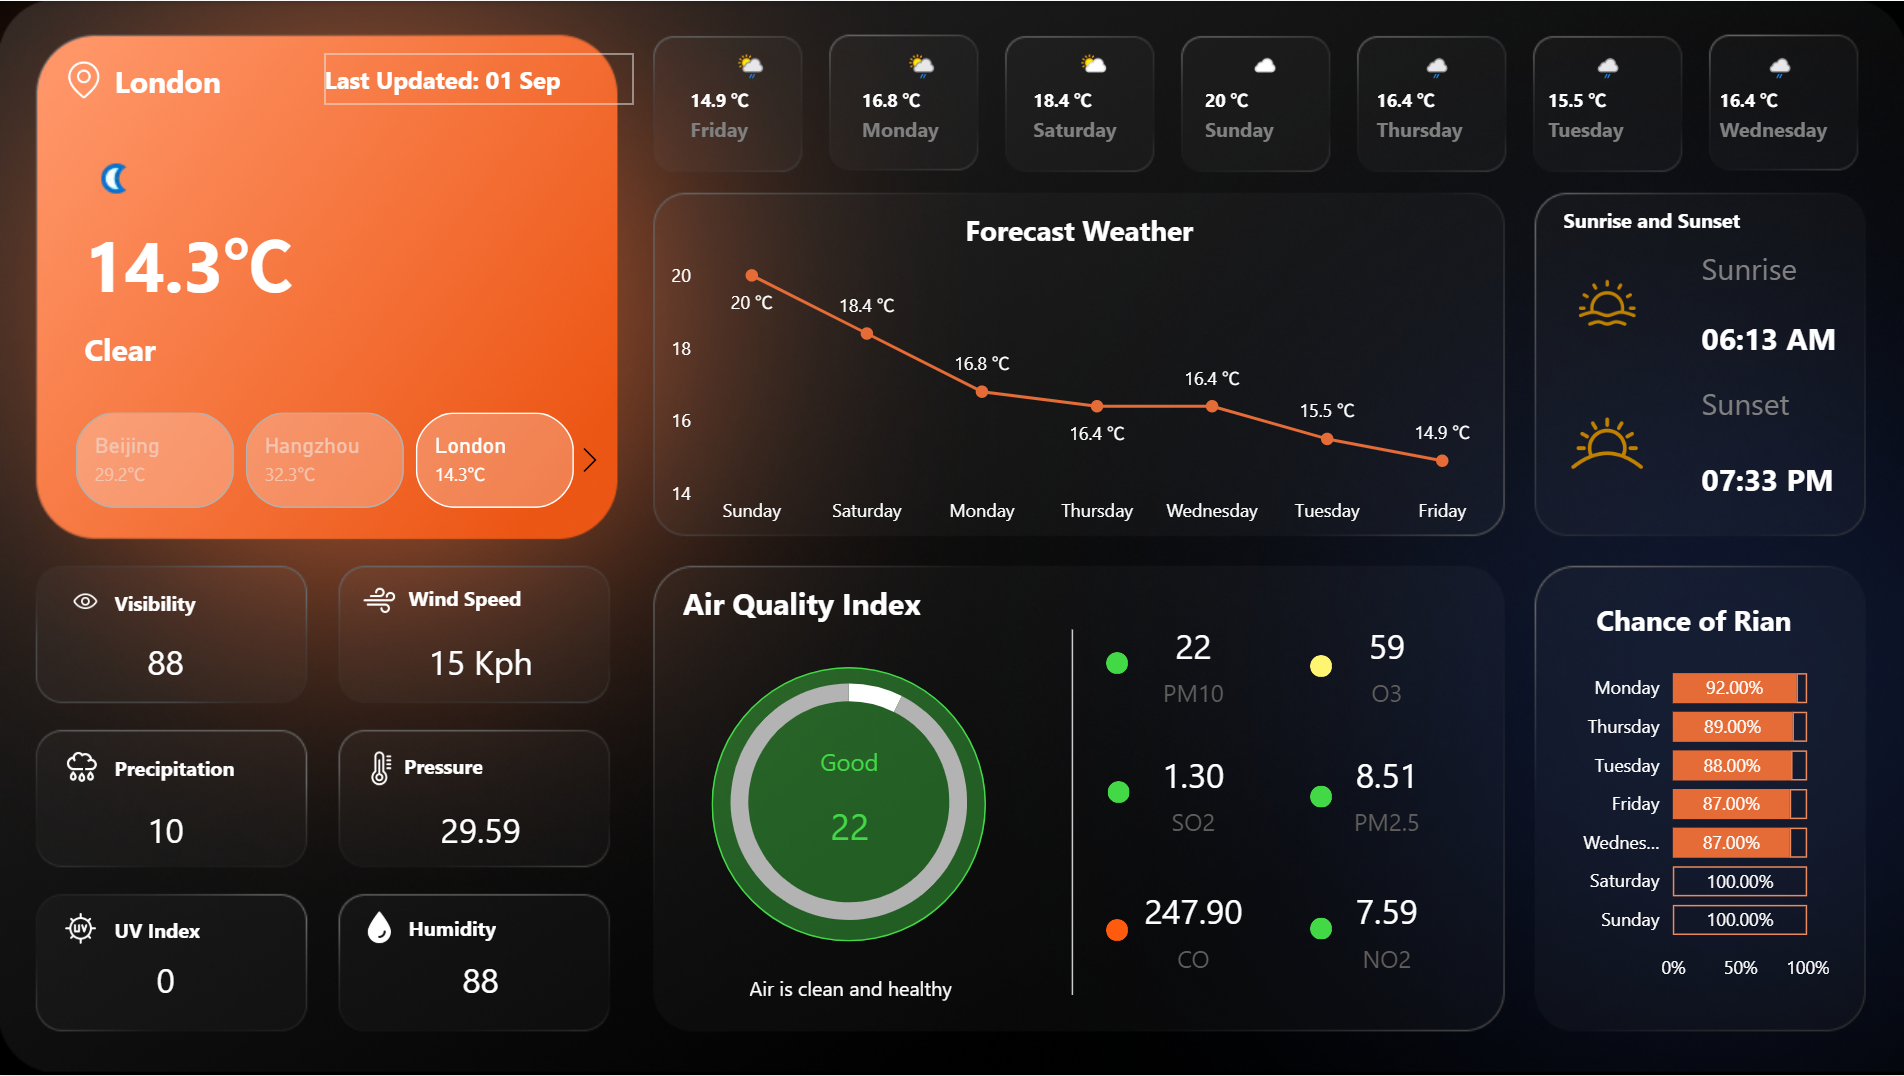

This screenshot's page, from the dashboard's own definition file:
{"tool":"powerbi","page":{"name":"第 1 页","canvas":[1280,720],"ordinal":0},"visuals":[{"type":"shape","box":[683.3,421,73.6,245],"z":0},{"type":"shape","box":[477.4,446.4,184.1,184.1],"z":1000},{"type":"advancedSlicerVisual","fields":{"Values":["Locations.location.name"]},"box":[26.5,270.3,385.4,74.8],"z":2000},{"type":"shape","box":[57.6,141,197.5,61.1],"z":3000},{"type":"shape","box":[57.6,216.3,367.9,34.1],"z":4000},{"type":"shape","box":[77.6,36.4,122.2,34.1],"z":5000},{"type":"image","box":[37.6,35.3,40,35.3],"z":6000},{"type":"shape","box":[218.6,35.3,206.9,34.1],"z":7000},{"type":"cardVisual","fields":{"Data":["Current.current.condition.icon"]},"box":[19.6,69.3,108.6,100.3],"z":8000},{"type":"image","box":[43.4,375.3,28.9,54.8],"z":9000},{"type":"shape","box":[77.5,386.7,78.6,34.1],"z":10000},{"type":"shape","box":[77.5,497.3,92,34.1],"z":11000},{"type":"image","box":[11.4,605.9,87.9,32.1],"z":12000},{"type":"image","box":[238.8,383.6,33.1,37.2],"z":13000},{"type":"image","box":[238.8,498.4,36.2,33.1],"z":14000},{"type":"image","box":[238.8,604.8,33.1,33.1],"z":15000},{"type":"image","box":[37.2,496.3,37.2,35.2],"z":16000},{"type":"shape","box":[77.5,605.9,92,34.1],"z":17000},{"type":"shape","box":[275,383.6,92,34.1],"z":18000},{"type":"shape","box":[271.9,496.3,92,34.1],"z":19000},{"type":"shape","box":[275,604.8,92,34.1],"z":20000},{"type":"card","fields":{"Values":["Current.current.humidity"]},"box":[277.1,630.7,90,53.8],"z":21000},{"type":"card","fields":{"Values":["Current.current.pressure_in"]},"box":[277.1,530.4,90,53.8],"z":22000},{"type":"card","fields":{"Values":["_Measures.Wind_Speed"]},"box":[277.1,417.7,90,53.8],"z":23000},{"type":"card","fields":{"Values":["Current.current.humidity"]},"box":[66.2,417.7,90,53.8],"z":24000},{"type":"card","fields":{"Values":["Current.current.vis_km"]},"box":[66.2,530.4,90,53.8],"z":25000},{"type":"card","fields":{"Values":["Current.current.uv"]},"box":[66.2,630.7,90,53.8],"z":26000},{"type":"advancedSlicerVisual","fields":{"Values":["Forecast_Day.Day_Name"]},"box":[445.2,27.2,812.3,85.3],"z":27000},{"type":"lineChart","title":"Forecast Weather","fields":{"Y":["Forecast_Day.forecast.forecastday.day.avgtemp_c"],"Category":["Forecast_Day.Day_Name"]},"box":[445.2,140.9,557.7,219.1],"z":28000},{"type":"shape","box":[1049,137.8,132.8,17.1],"z":29000},{"type":"shape","box":[1141.5,202.2,98.6,48.3],"z":30000},{"type":"shape","box":[1141.5,296.7,98.6,48.3],"z":31000},{"type":"shape","box":[1141.5,154.9,98.6,48.3],"z":32000},{"type":"shape","box":[1141.5,245.4,98.6,48.3],"z":33000},{"type":"image","box":[1041,256.5,74.4,80.5],"z":34000},{"type":"image","box":[1052,178,53.3,48.3],"z":35000},{"type":"hundredPercentStackedBarChart","title":"Chance of Rian","fields":{"Y":["Forecast_Day.forecast.forecastday.day.daily_chance_of_rain","Current.Left_value_Rian"],"Category":["Forecast_Day.Day_Name"]},"box":[1041,402.3,191.1,263.5],"z":36000},{"type":"shape","box":[459,386.5,180.6,34.5],"z":37000},{"type":"card","fields":{"Values":["Current.current.air_quality.pm10"]},"box":[748.9,408.4,102.4,71.3],"z":38000},{"type":"card","fields":{"Values":["Current.current.air_quality.so2"]},"box":[748.9,494.7,102.4,71.3],"z":39000},{"type":"card","fields":{"Values":["Current.current.air_quality.co"]},"box":[748.9,586.7,102.4,71.3],"z":40000},{"type":"card","fields":{"Values":["Current.current.air_quality.o3"]},"box":[878.9,408.4,102.4,71.3],"z":41000},{"type":"card","fields":{"Values":["Current.current.air_quality.pm2_5"]},"box":[878.9,494.7,102.4,71.3],"z":42000},{"type":"card","fields":{"Values":["Current.current.air_quality.no2"]},"box":[878.9,586.7,102.4,71.3],"z":43000},{"type":"shape","box":[742,436,15,15],"z":44000},{"type":"shape","box":[742,615.5,15,15],"z":45000},{"type":"donutChart","fields":{"Y":["Current.current.air_quality.pm10","_Measures.Left_Value_PM10"]},"box":[455.6,432.6,227.8,208.2],"z":46000},{"type":"card","fields":{"Values":["Current.current.air_quality.pm10"]},"box":[518.8,499.3,102.4,89.7],"z":47000},{"type":"shape","box":[743.2,523.4,15,15],"z":47001},{"type":"shape","box":[878.9,438.3,15,15],"z":47002},{"type":"shape","box":[878.9,525.7,15,15],"z":47003},{"type":"shape","box":[878.9,614.3,15,15],"z":47004},{"type":"shape","box":[480.9,639.6,180.6,43.7],"z":47005}]}

Visuals, with their boxes in screenshot pixels (x1, y1, x2, y2), scaled from the page's 1280x720 canvas onto the 1904x1076 screenshot:
shape: <box>1016,629,1126,995</box>
shape: <box>710,667,984,942</box>
advancedSlicerVisual - Locations.location.name: <box>39,404,613,516</box>
shape: <box>86,211,379,302</box>
shape: <box>86,323,633,374</box>
shape: <box>115,54,297,105</box>
image: <box>56,53,115,106</box>
shape: <box>325,53,633,104</box>
cardVisual - Current.current.condition.icon: <box>29,104,191,253</box>
image: <box>65,561,108,643</box>
shape: <box>115,578,232,629</box>
shape: <box>115,743,252,794</box>
image: <box>17,905,148,953</box>
image: <box>355,573,404,629</box>
image: <box>355,745,409,794</box>
image: <box>355,904,404,953</box>
image: <box>55,742,111,794</box>
shape: <box>115,905,252,956</box>
shape: <box>409,573,546,624</box>
shape: <box>404,742,541,793</box>
shape: <box>409,904,546,955</box>
card - Current.current.humidity: <box>412,943,546,1023</box>
card - Current.current.pressure_in: <box>412,793,546,873</box>
card - _Measures.Wind_Speed: <box>412,624,546,705</box>
card - Current.current.humidity: <box>98,624,232,705</box>
card - Current.current.vis_km: <box>98,793,232,873</box>
card - Current.current.uv: <box>98,943,232,1023</box>
advancedSlicerVisual - Forecast_Day.Day_Name: <box>662,41,1871,168</box>
"Forecast Weather" lineChart: <box>662,211,1492,538</box>
shape: <box>1560,206,1758,231</box>
shape: <box>1698,302,1845,374</box>
shape: <box>1698,443,1845,516</box>
shape: <box>1698,231,1845,304</box>
shape: <box>1698,367,1845,439</box>
image: <box>1548,383,1659,504</box>
image: <box>1565,266,1644,338</box>
"Chance of Rian" hundredPercentStackedBarChart: <box>1548,601,1833,995</box>
shape: <box>683,578,951,629</box>
card - Current.current.air_quality.pm10: <box>1114,610,1266,717</box>
card - Current.current.air_quality.so2: <box>1114,739,1266,846</box>
card - Current.current.air_quality.co: <box>1114,877,1266,983</box>
card - Current.current.air_quality.o3: <box>1307,610,1460,717</box>
card - Current.current.air_quality.pm2_5: <box>1307,739,1460,846</box>
card - Current.current.air_quality.no2: <box>1307,877,1460,983</box>
shape: <box>1104,652,1126,674</box>
shape: <box>1104,920,1126,942</box>
donutChart - Current.current.air_quality.pm10 x _Measures.Left_Value_PM10: <box>678,646,1017,958</box>
card - Current.current.air_quality.pm10: <box>772,746,924,880</box>
shape: <box>1106,782,1128,805</box>
shape: <box>1307,655,1330,677</box>
shape: <box>1307,786,1330,808</box>
shape: <box>1307,918,1330,940</box>
shape: <box>715,956,984,1021</box>
